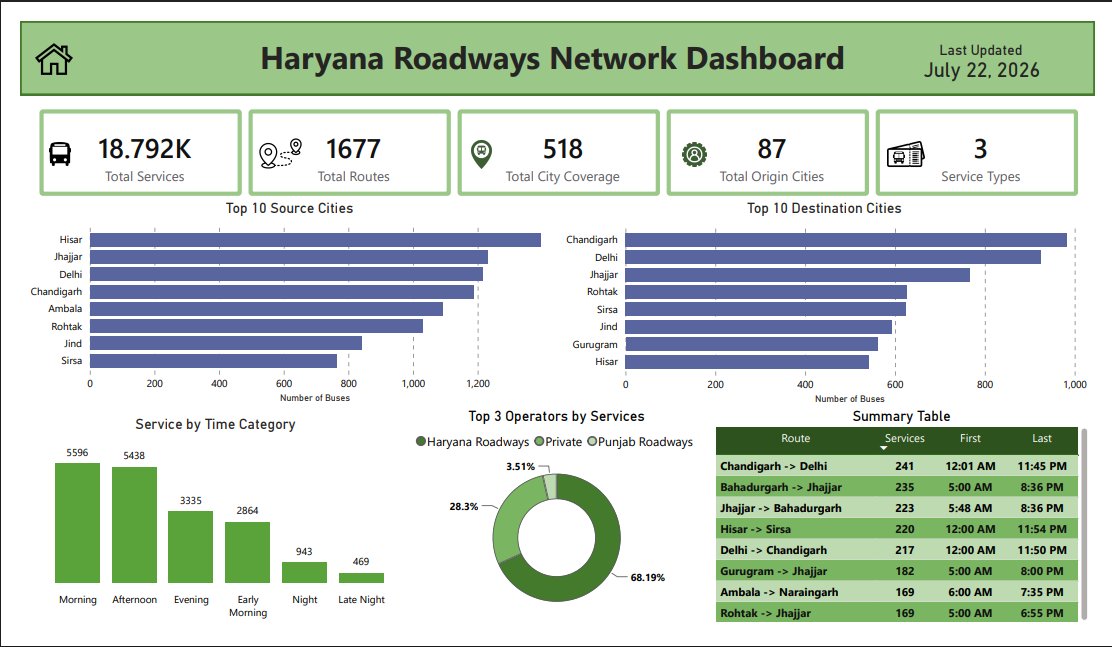

This screenshot's page, from the dashboard's own definition file:
{"tool":"powerbi","page":{"name":"Executive Summary","canvas":[1280,720],"ordinal":0},"visuals":[{"type":"shape","title":"Haryana Roadways Network Dashboard","box":[0,0,1280.5,87.8],"z":0},{"type":"card","fields":{"Values":["final.Last Updated"]},"box":[1044.9,23.4,202,67.3],"z":1000},{"type":"cardVisual","fields":{"Data":["final.Bus Services","final.Total Routes","final.Total City Coverage","final.Total Origin Cities","final.Types of Service"]},"box":[5.9,87.8,1274.6,137.6],"z":2000},{"type":"textbox","box":[1090.2,19,118.5,36.6],"z":3000},{"type":"textbox","box":[281,11.7,715.6,62.9],"z":4000},{"type":"image","box":[532.7,131.7,33.7,52.7],"z":5000},{"type":"image","box":[33.7,123.8,27.8,68.8],"z":6000},{"type":"image","box":[260.5,133.3,99.5,49.8],"z":7000},{"type":"image","box":[771.2,143.6,64.4,29.3],"z":8000},{"type":"image","box":[1030.2,136.2,48.3,43.9],"z":9000},{"type":"barChart","title":"Top 10 Destination Cities","fields":{"Category":["final.To"],"Y":["final.Total Services"]},"box":[639.5,212.2,636.6,248.8],"z":10000},{"type":"columnChart","title":"Service by Time Category","fields":{"Category":["final.Time Category"],"Y":["CountNonNull(final.Type of Service)"]},"box":[0,470,466,250],"z":11000},{"type":"donutChart","title":"Top 3 Operators by Services","fields":{"Category":["Distinct Operator.Operator"],"Y":["Distinct Operator.Services"]},"box":[454,460,370,260],"z":12000},{"type":"tableEx","title":"Summary Table","fields":{"Values":["final.Route","final.Total Services","final.First Time","final.Last Time"]},"box":[848.3,460,428.3,260],"z":13000},{"type":"barChart","title":"Top 10 Source Cities","fields":{"Category":["final.From"],"Y":["final.Total Services"]},"box":[2,212,638,248],"z":14000},{"type":"image","title":"slicer open","box":[18.3,16.7,43.3,55],"z":17000}]}

Visuals, with their boxes on the page's 1280x720 design canvas (x1, y1, x2, y2). These are canvas units, not pixel positions in the 1112x647 screenshot, which may show the page scaled, cropped or inside an application window:
"Haryana Roadways Network Dashboard" shape: [0,0,1280,88]
card - final.Last Updated: [1045,23,1247,91]
cardVisual - final.Bus Services x final.Total Routes: [6,88,1280,225]
textbox: [1090,19,1209,56]
textbox: [281,12,997,75]
image: [533,132,566,184]
image: [34,124,62,193]
image: [260,133,360,183]
image: [771,144,836,173]
image: [1030,136,1078,180]
"Top 10 Destination Cities" barChart: [640,212,1276,461]
"Service by Time Category" columnChart: [0,470,466,720]
"Top 3 Operators by Services" donutChart: [454,460,824,720]
"Summary Table" tableEx: [848,460,1277,720]
"Top 10 Source Cities" barChart: [2,212,640,460]
"slicer open" image: [18,17,62,72]
